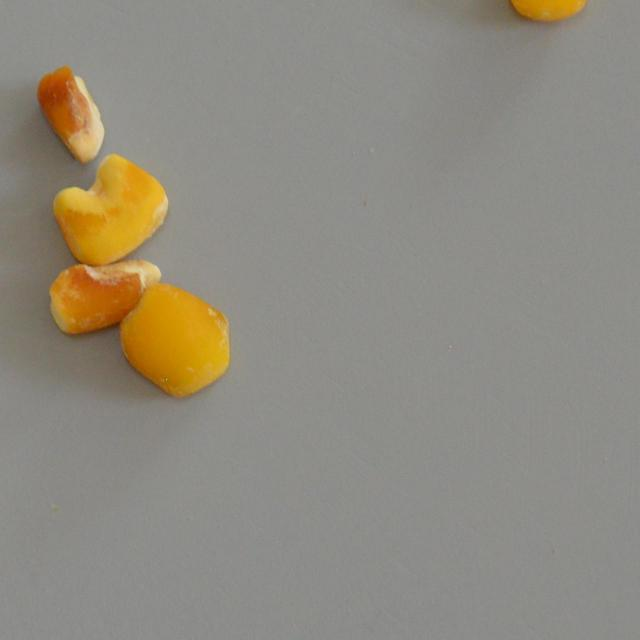dañado: (46, 254, 166, 335), (38, 66, 106, 164), (504, 0, 590, 28)
pelicula: (48, 153, 171, 264), (118, 281, 232, 399)
